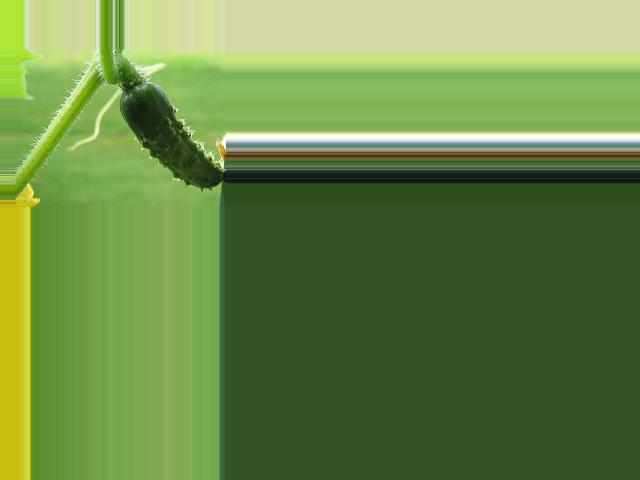cucumber: (117, 83, 222, 190)
